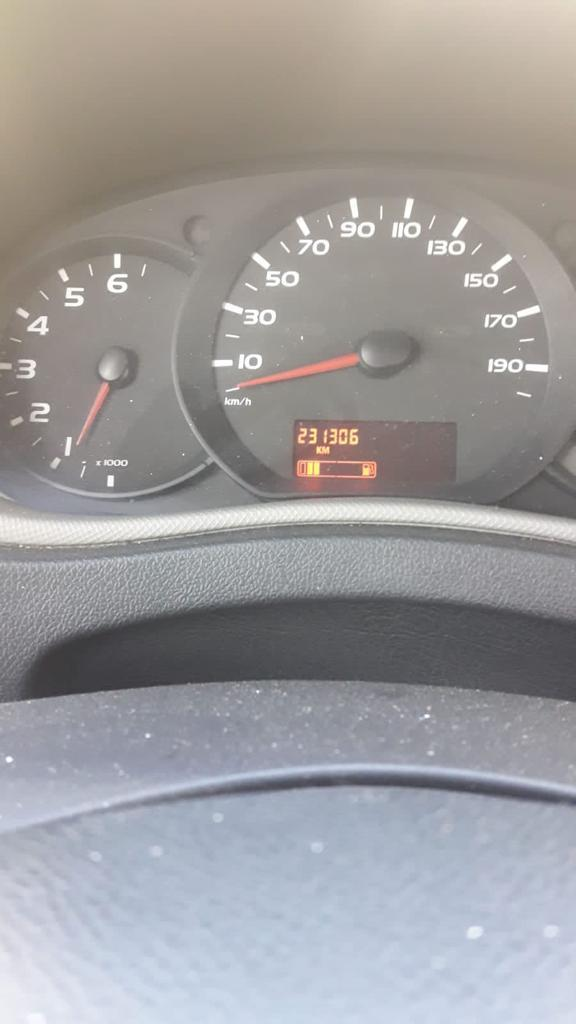0: (338, 428, 348, 444)
1: (320, 428, 328, 444)
2: (296, 427, 307, 444)
3: (328, 427, 337, 445), (307, 427, 316, 444)
6: (348, 428, 359, 445)
X: (315, 445, 322, 454), (322, 445, 329, 454)
odometer: (289, 416, 460, 490)
